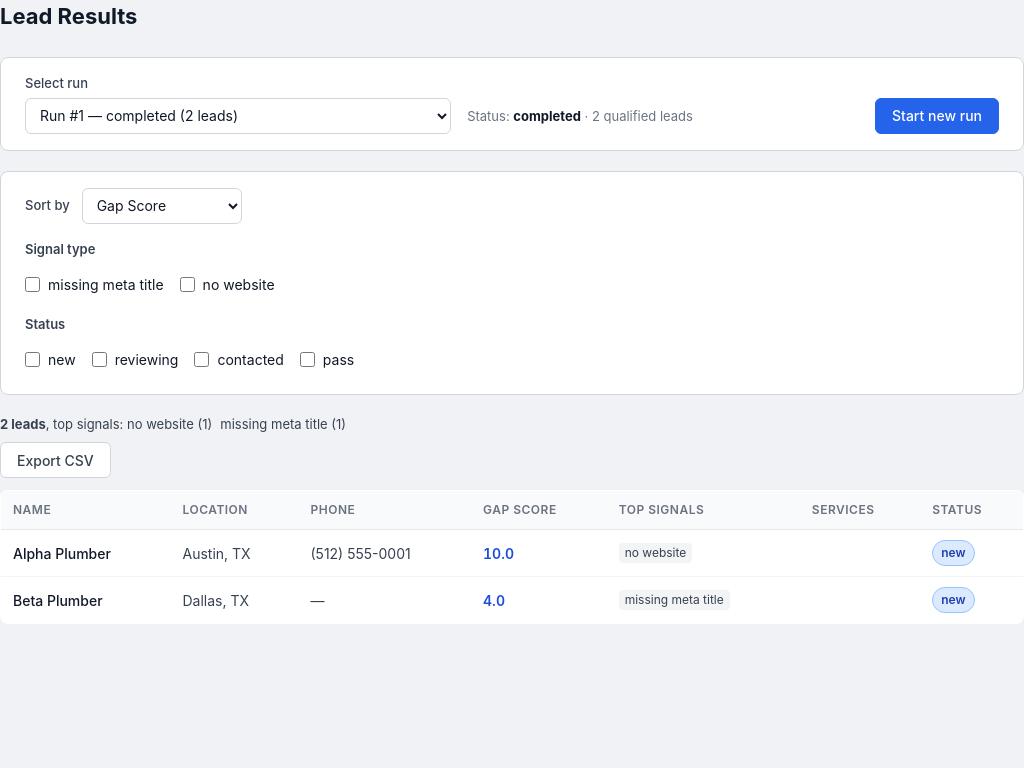
Scenario: LeadResults â€” detail panel opens on row click › clicking a lead row opens the detail panel with business name
Click the text "Alpha Plumber" at (86, 553), box [0,530,170,577]
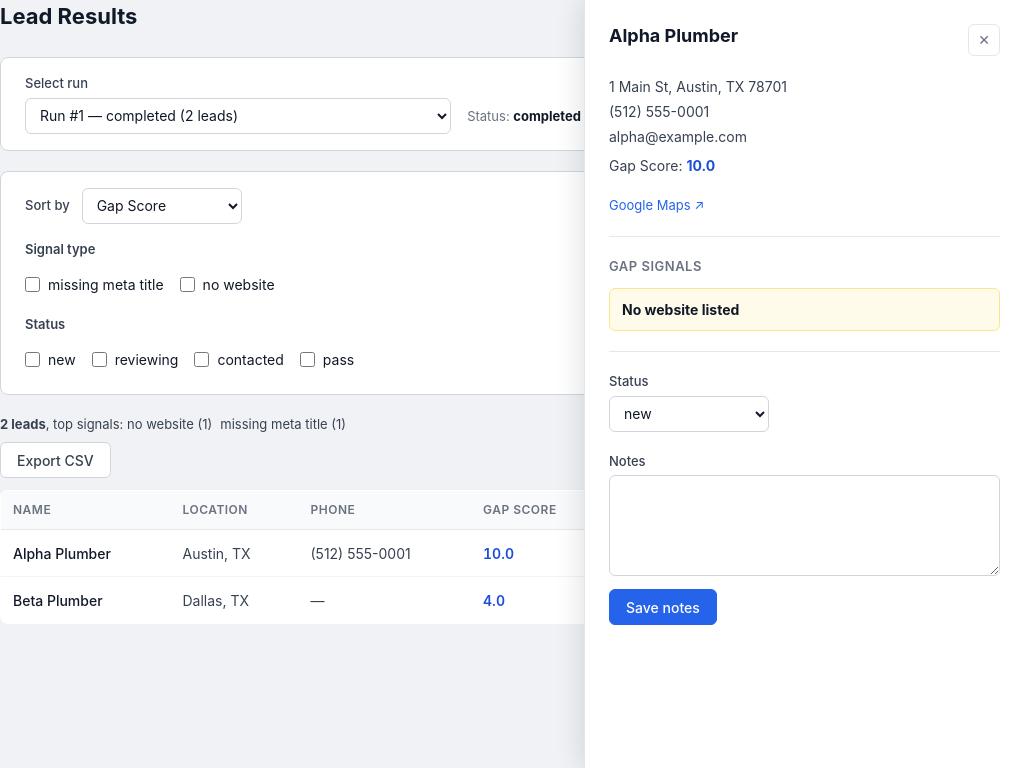
expect the dialog named "lead detail" is shown: met, box [584,0,1023,767]
